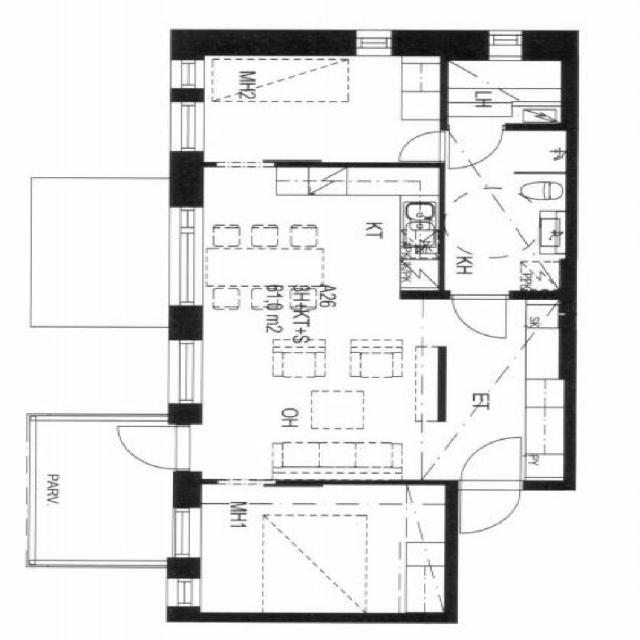door: (454, 432, 527, 536), (447, 290, 514, 341), (458, 486, 523, 536), (116, 424, 188, 469), (444, 120, 507, 168), (391, 127, 450, 162)
window: (160, 200, 203, 314), (162, 332, 207, 412), (165, 98, 208, 159), (166, 502, 205, 565), (347, 25, 402, 58), (480, 25, 529, 62), (163, 571, 203, 616), (168, 54, 207, 96), (211, 156, 276, 172), (208, 476, 277, 488)
zone: (185, 490, 454, 619), (193, 53, 446, 164), (444, 128, 570, 298), (442, 54, 570, 126)
